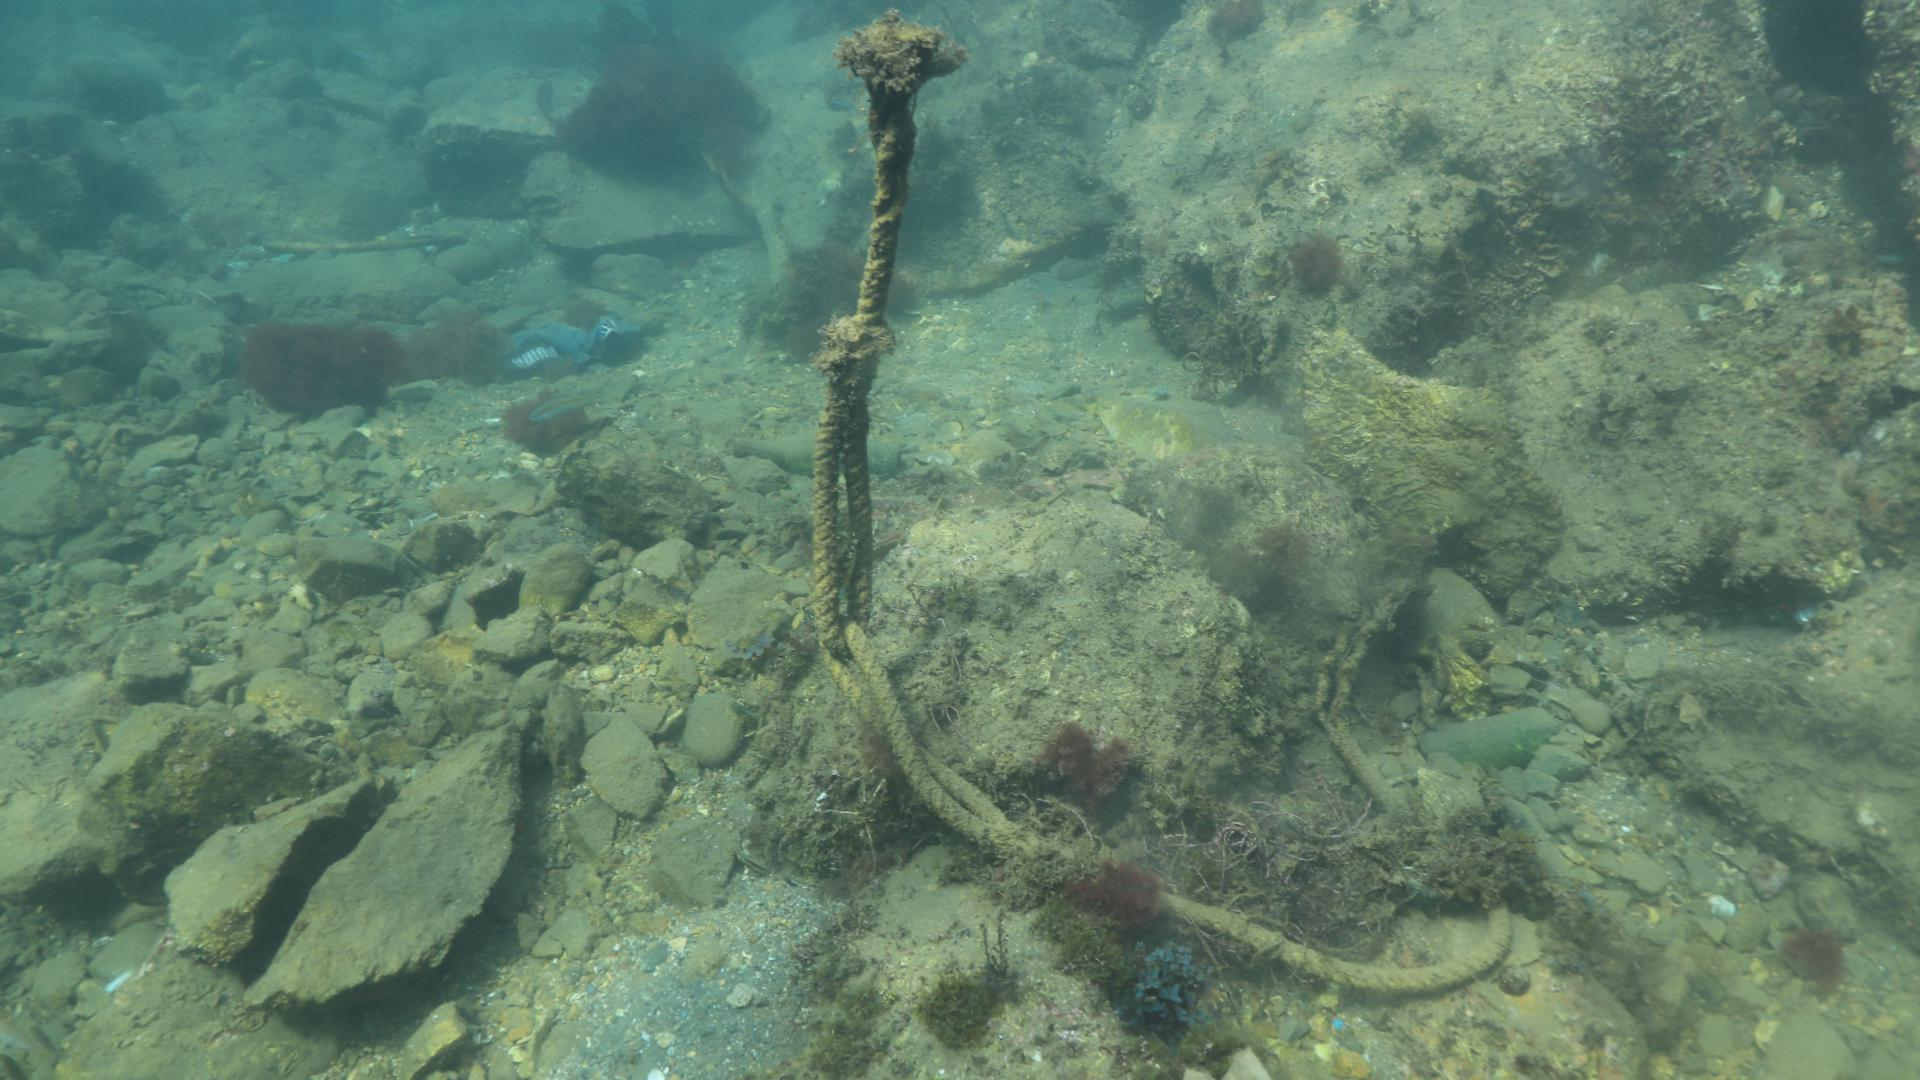bundle of ropes: (814, 109, 1515, 996)
